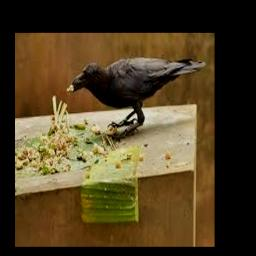Crow: (69, 57, 207, 132)
